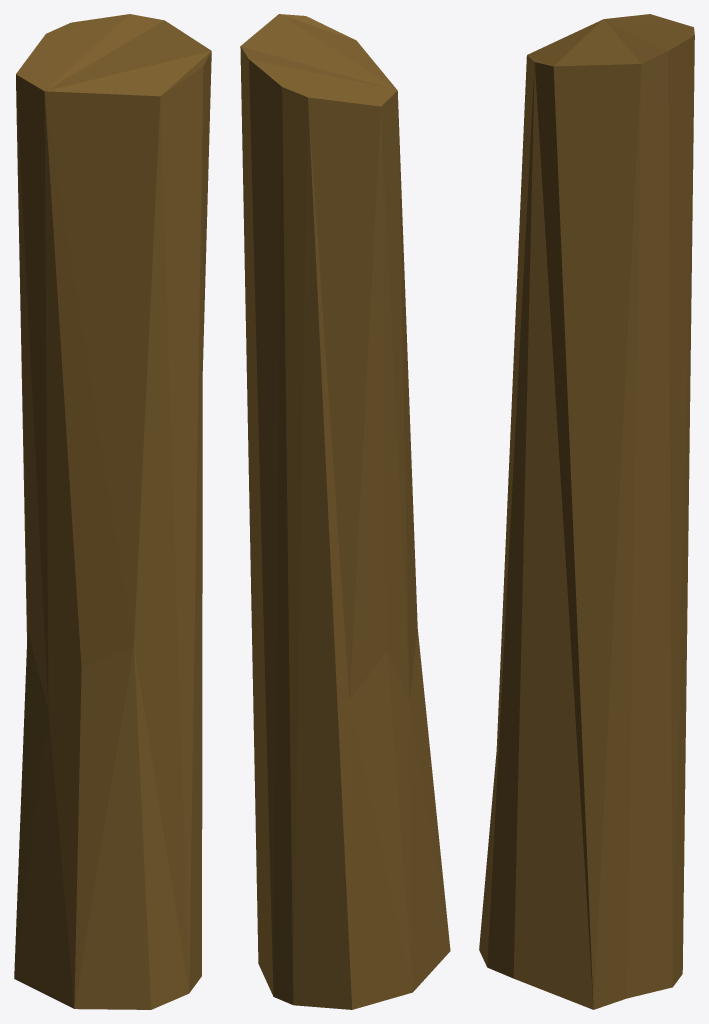
The model's file is Prototype Fence Pole 01.FBX.
3 views of the same model, side by side, from view 1: azimuth 30°, elevation 25°; view 2: azimuth 150°, elevation 25°; view 3: azimuth 270°, elevation 25° (orthographic). The views are drawn at different scales.
Visible parts, largest first — view 1: Prototype Fence Pole 01; view 2: Prototype Fence Pole 01; view 3: Prototype Fence Pole 01.
Boxes of the visible parts, x1,y1,x2,y2 form: Prototype Fence Pole 01: [14, 14, 211, 1009]; Prototype Fence Pole 01: [240, 14, 450, 1009]; Prototype Fence Pole 01: [479, 14, 694, 1009].
Bounding box in the file's own units: 11.94 × 13.15 × 63.85.
